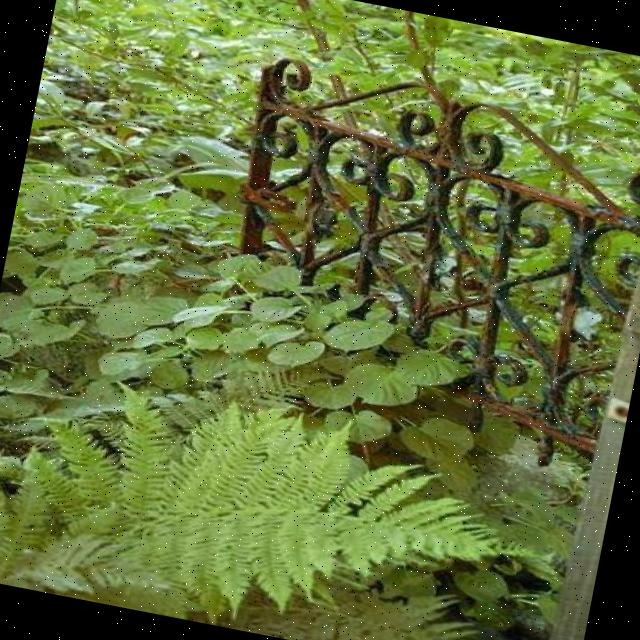Corrosion: (197, 40, 640, 467)
